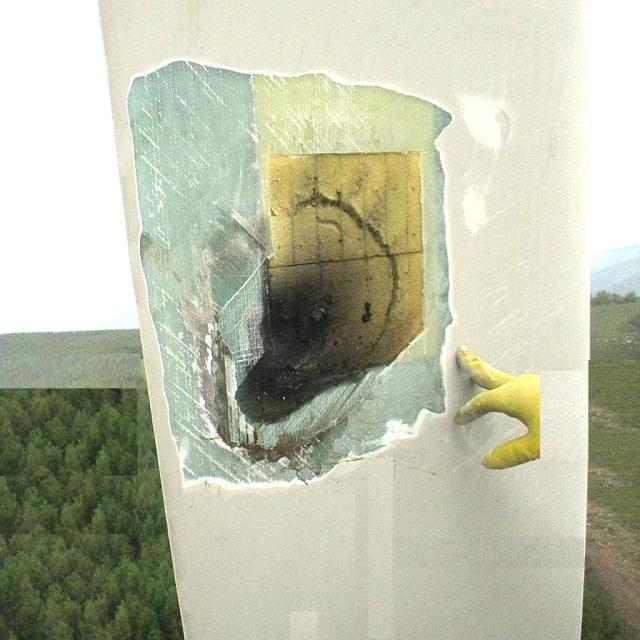corrosion: (125, 179, 222, 489)
crack: (228, 177, 420, 444)
surface_peeling: (120, 54, 474, 170), (417, 180, 470, 455)
